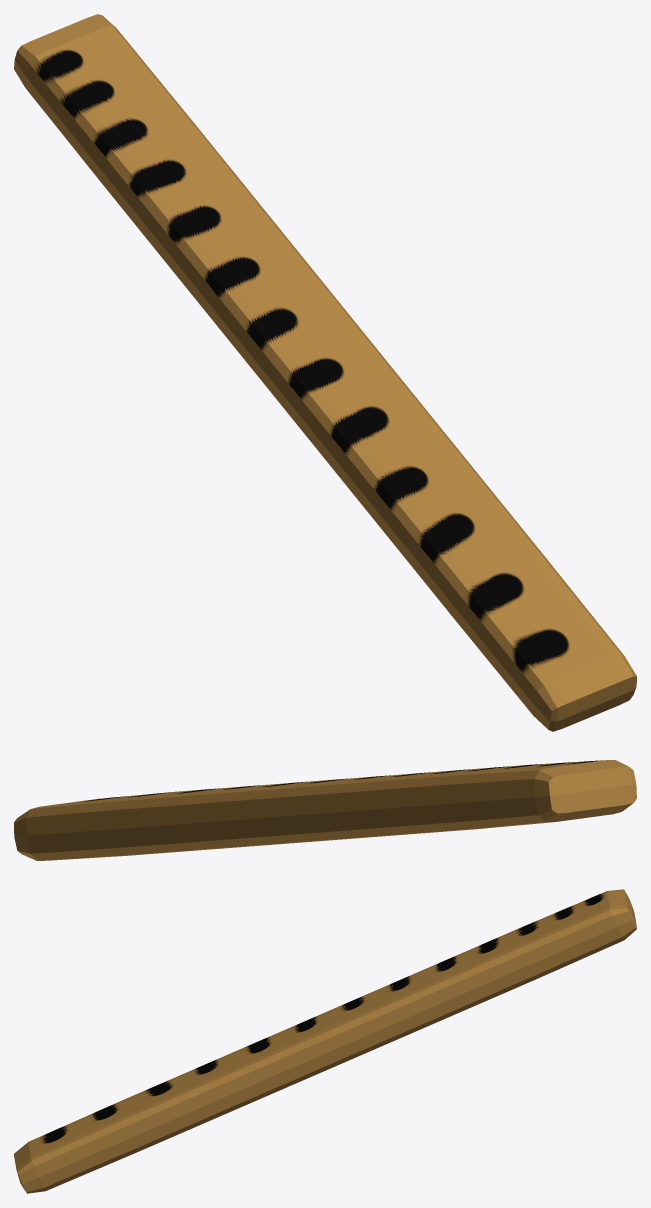
Rendered from regla.fbx.
3 views of the same model, one above another, from view 1: azimuth 30°, elevation 25°; view 2: azimuth 210°, elevation 25°; view 3: azimuth 270°, elevation 25° (orthographic). The views are drawn at different scales.
Visible parts, largest first — view 1: Cube; view 2: Cube; view 3: Cube.
Part boxes in pixels (x1,y1,x2,y2): Cube: (14,14,636,731); Cube: (14,760,636,860); Cube: (14,889,636,1193).
Size of the model in its own units: 40.23 by 86.97 by 186.
